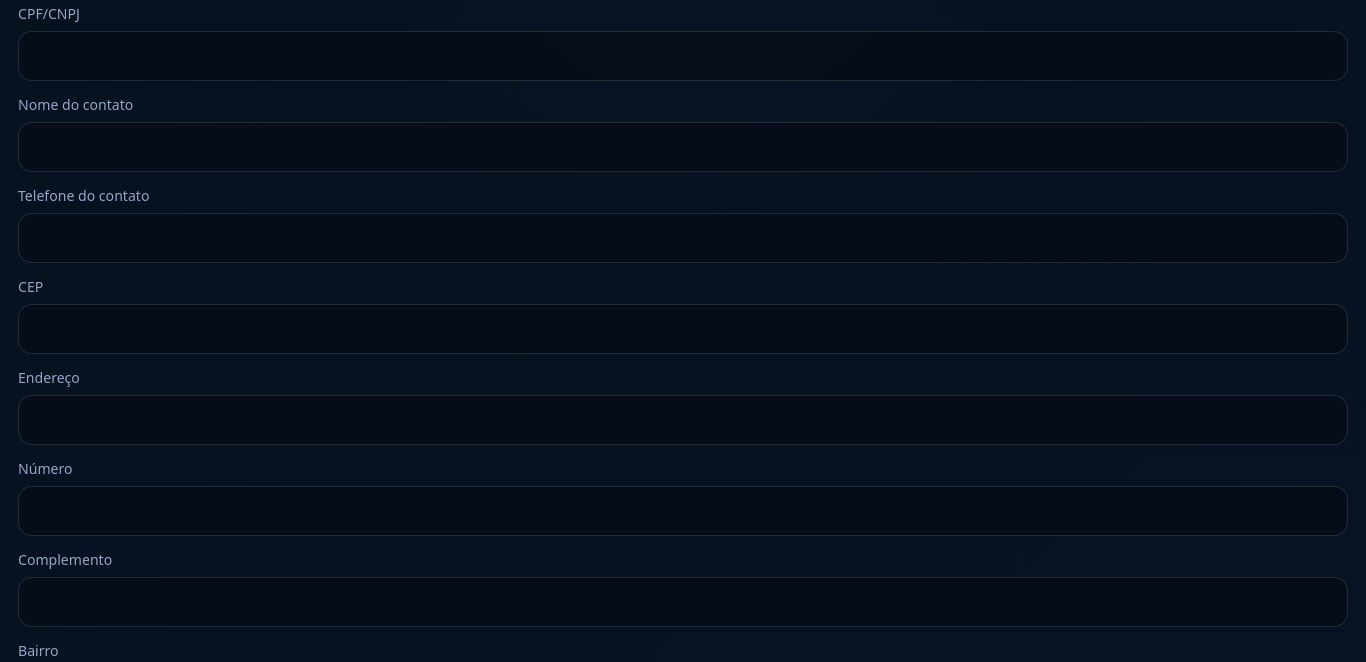
Test: StepClient › busca o CEP completo e preenche o endereço automaticamente
(page scrolled)
Type "01001000" into the field labelled "CEP" at (683, 329), box [18,304,1348,354]
(page scrolled)
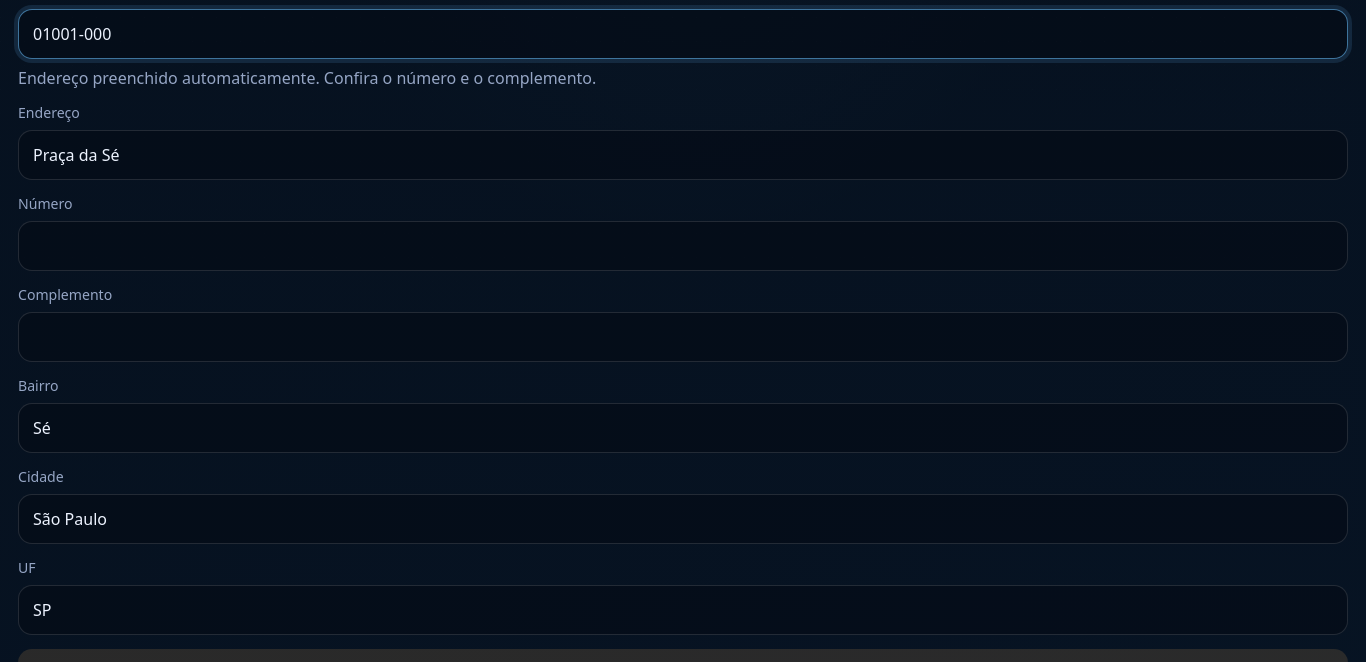
Result: the field showing "Praça da Sé" is shown at [18,130,1348,180]
Result: the field showing "Sé" is shown at [18,403,1348,453]
Result: the field showing "São Paulo" is shown at [18,494,1348,544]
